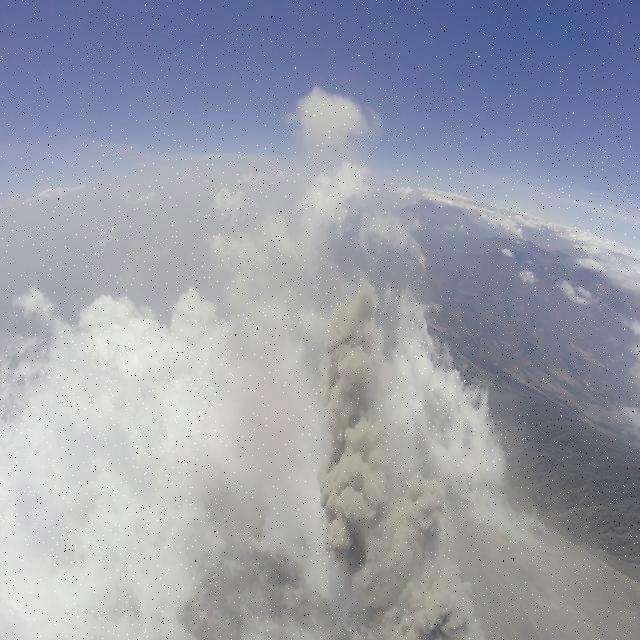Plume: (314, 281, 488, 640)
